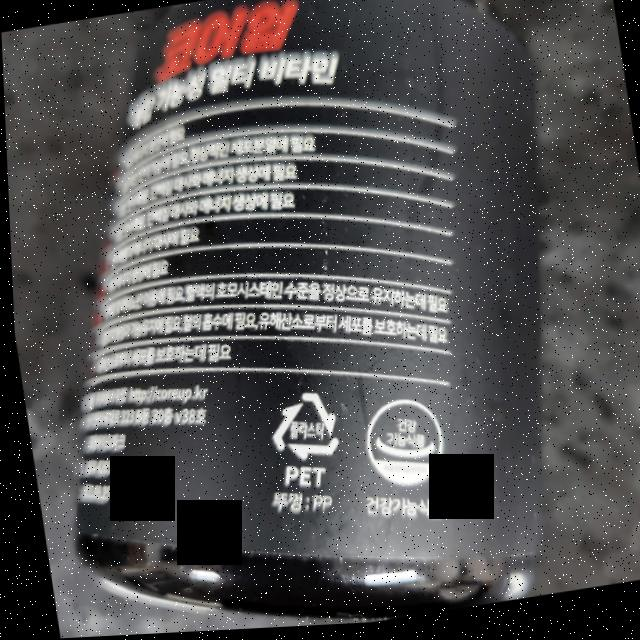Plastic: (257, 388, 340, 473)
